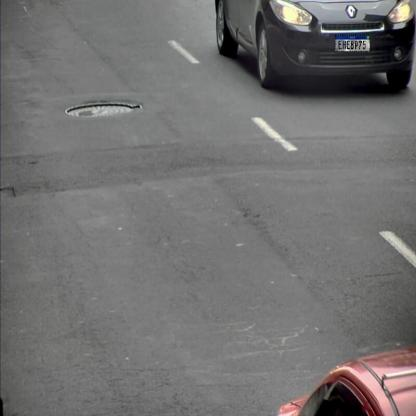PlacaM: (335, 35, 370, 52)
